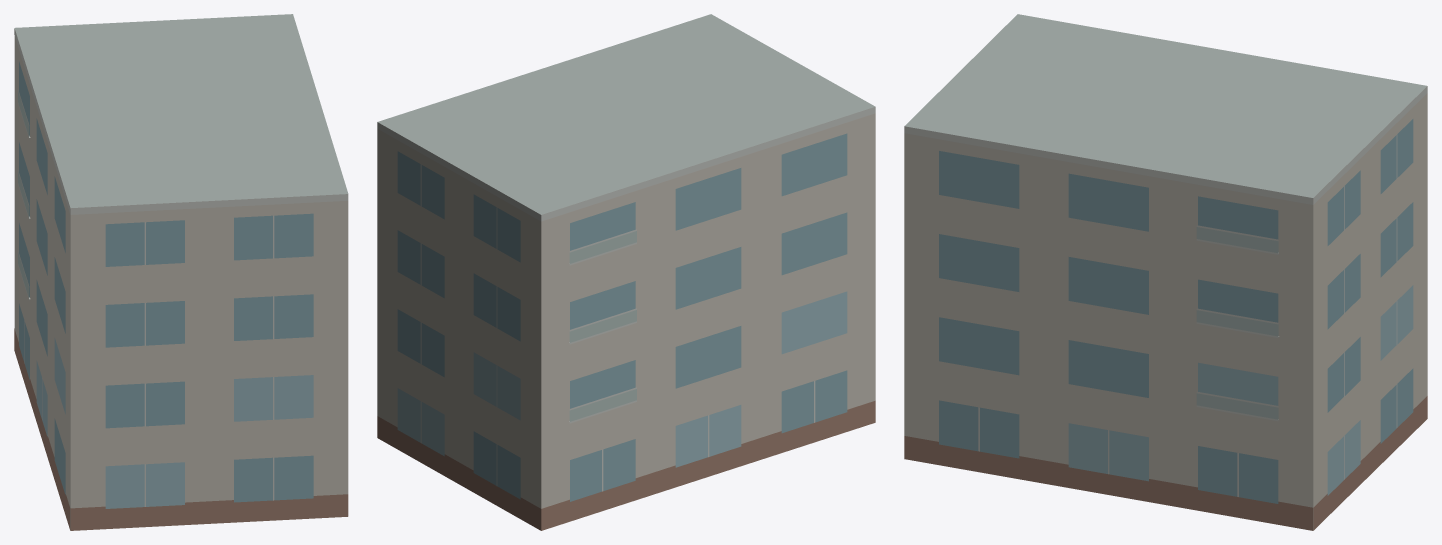
Rendered from survey-upis-32741421.glb.
3 views of the same model, side by side, from view 1: azimuth 30°, elevation 25°; view 2: azimuth 150°, elevation 25°; view 3: azimuth 270°, elevation 25° (orthographic). The views are drawn at different scales.
Visible parts, largest first — view 1: survey-upis-32741421.tmp; view 2: survey-upis-32741421.tmp; view 3: survey-upis-32741421.tmp.
Part boxes in pixels (left/top/right/bottom): survey-upis-32741421.tmp: left=14, top=14, right=348, bottom=530; survey-upis-32741421.tmp: left=377, top=14, right=875, bottom=530; survey-upis-32741421.tmp: left=904, top=14, right=1427, bottom=530.
Bounding box in the file's own units: 13.89 × 11.7 × 16.68.
